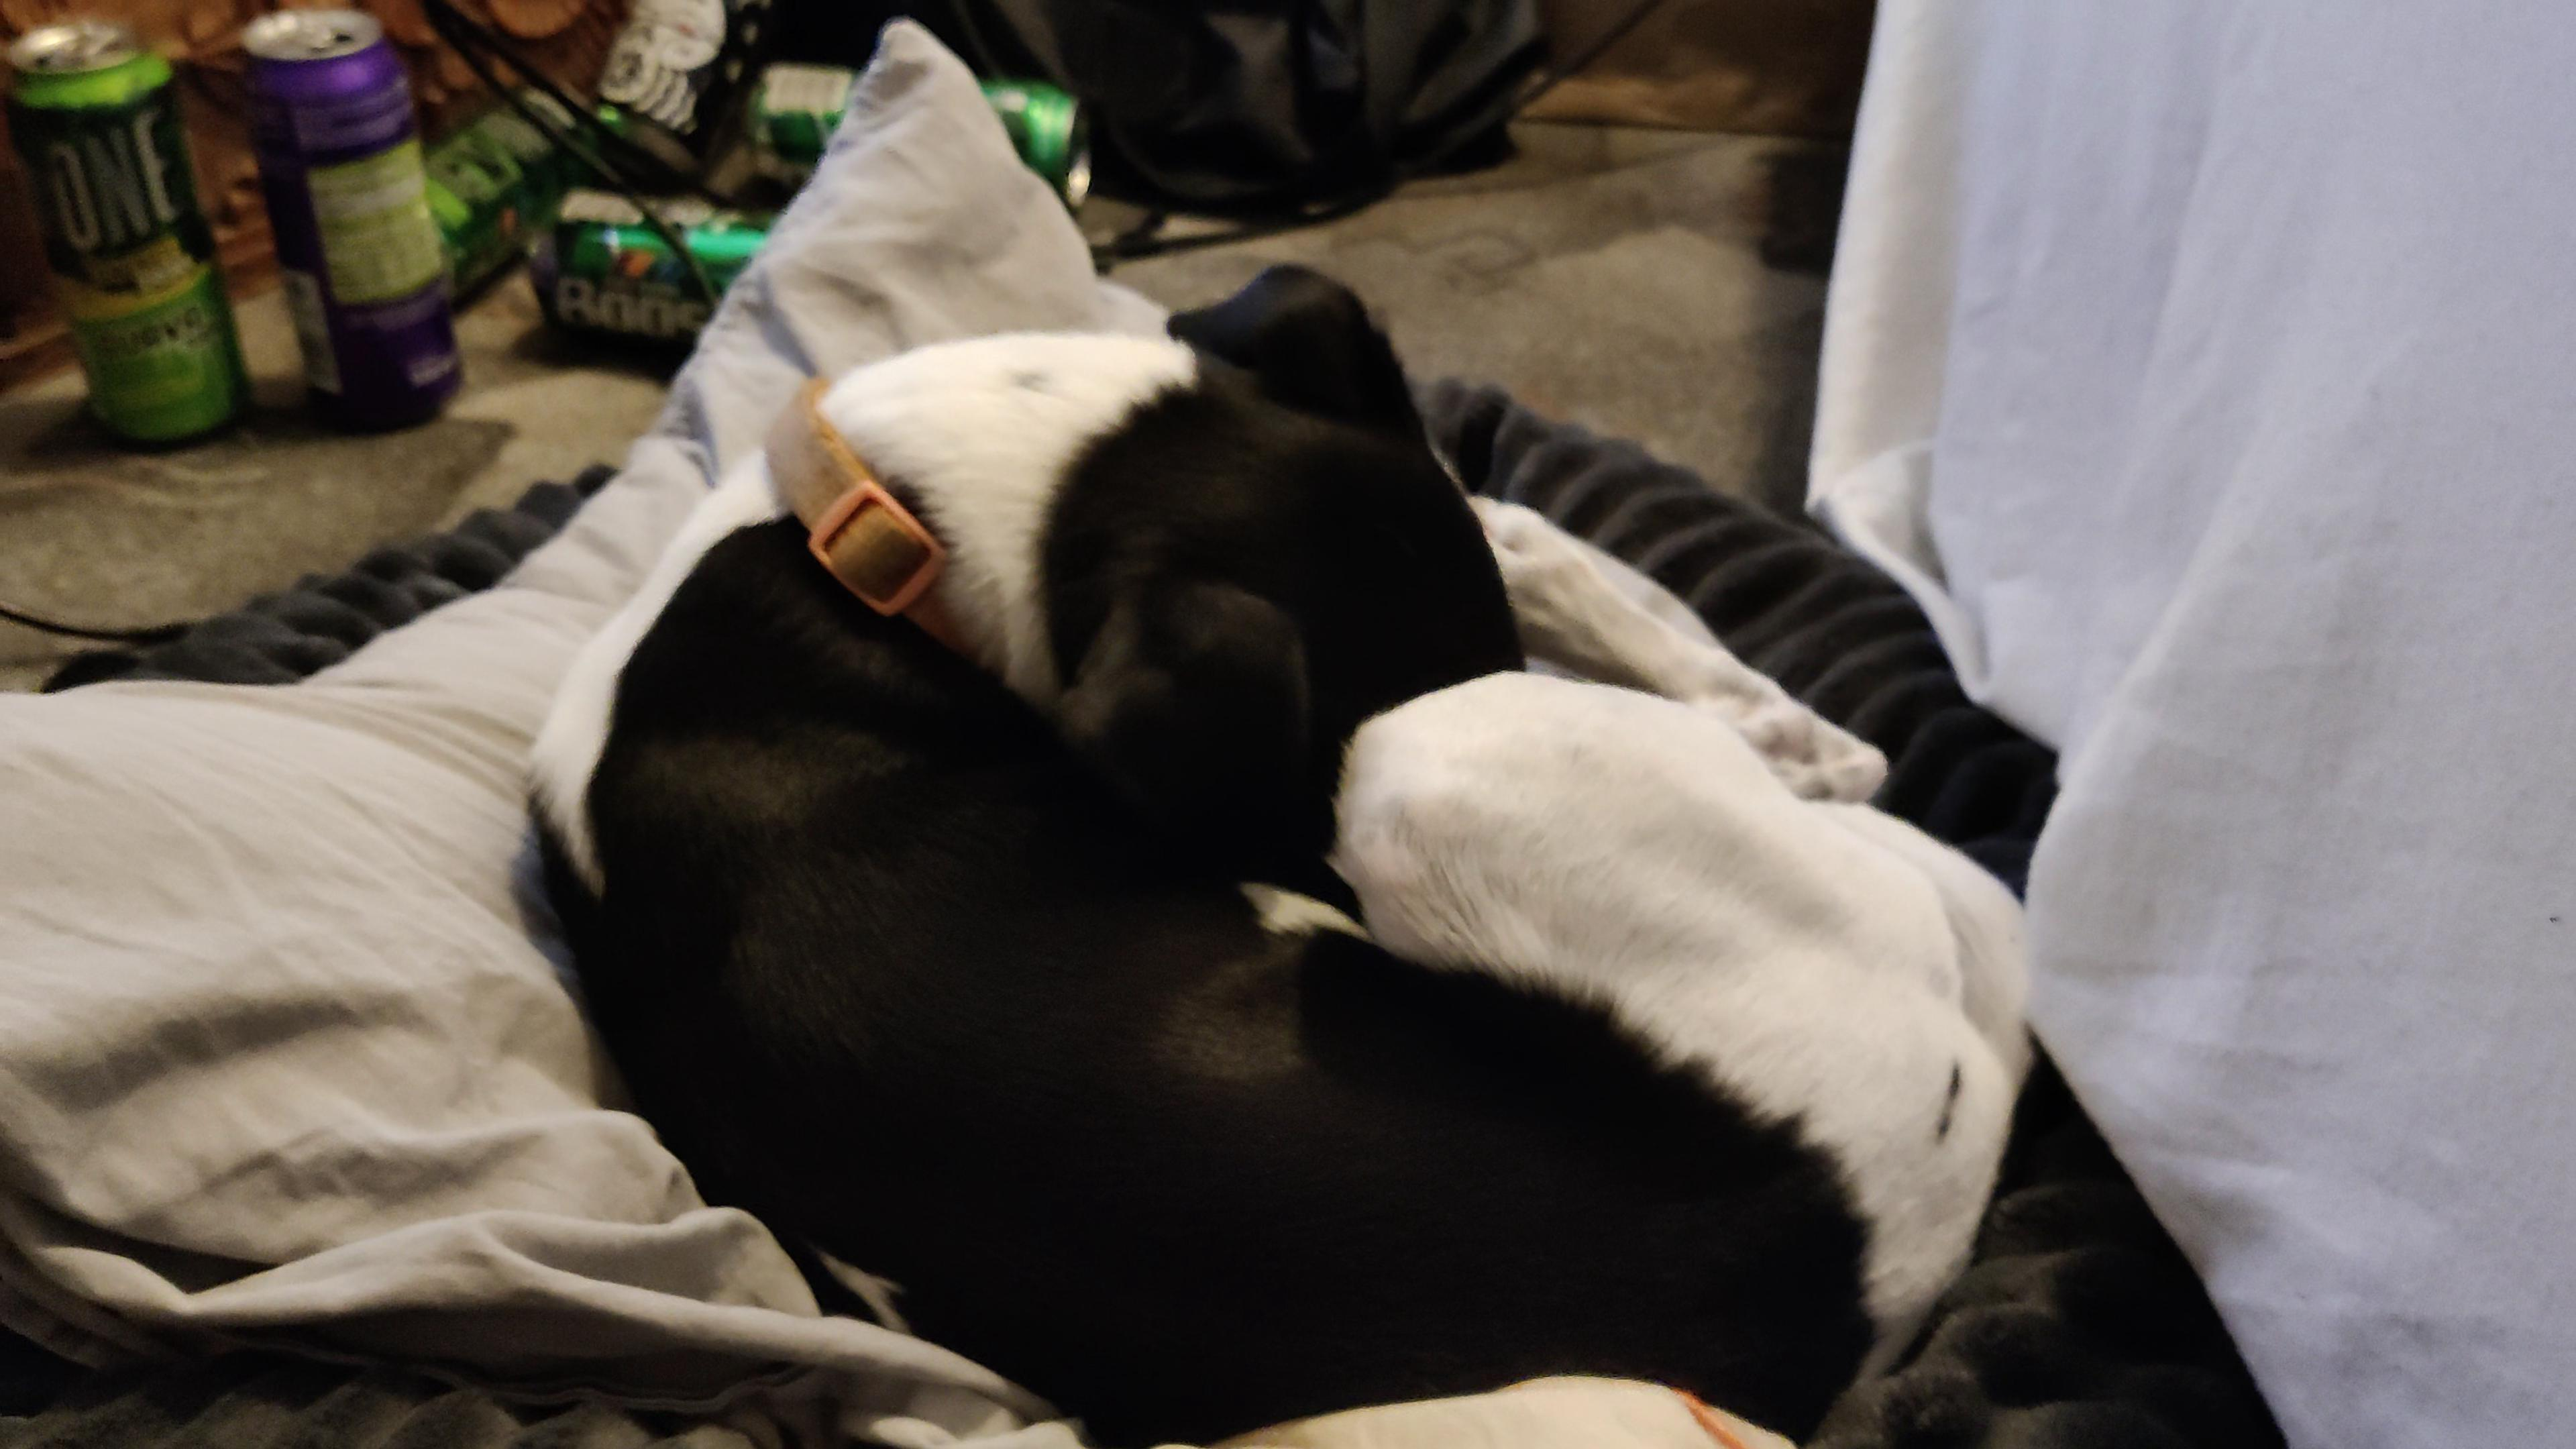Dog: (522, 242, 2040, 1449)
